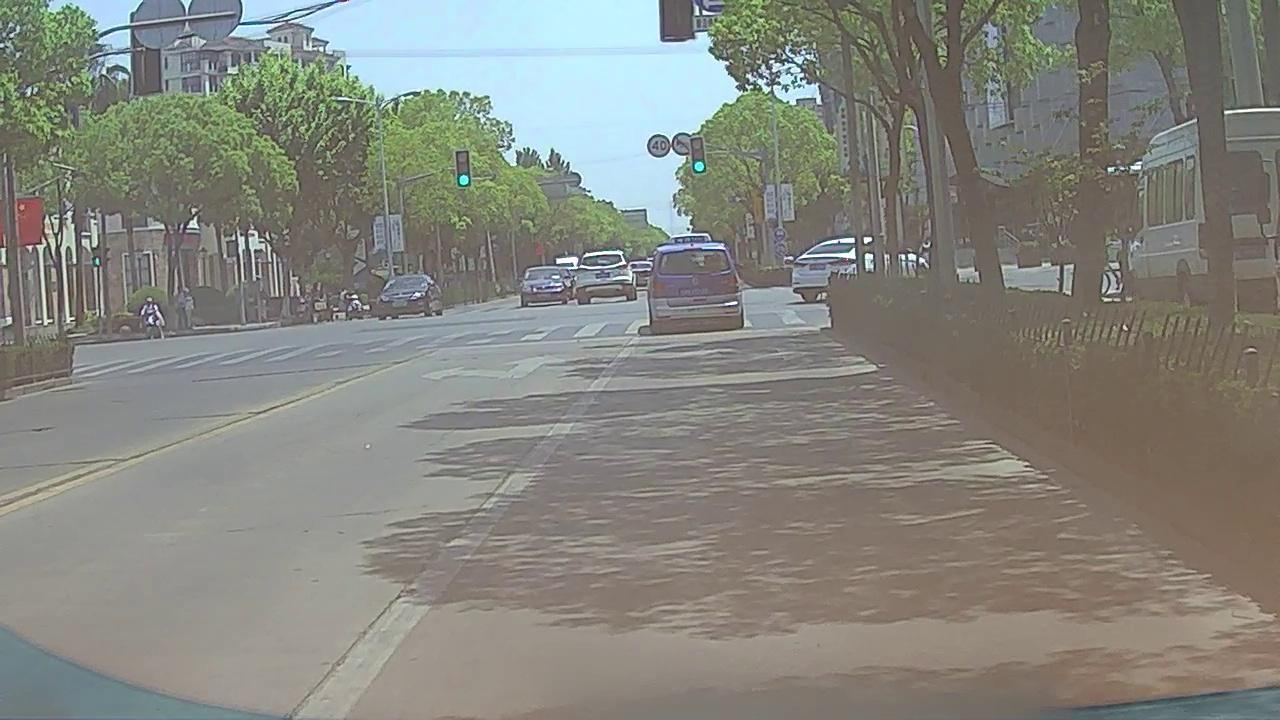traffic_light: (455, 151, 472, 186), (690, 138, 706, 174)
